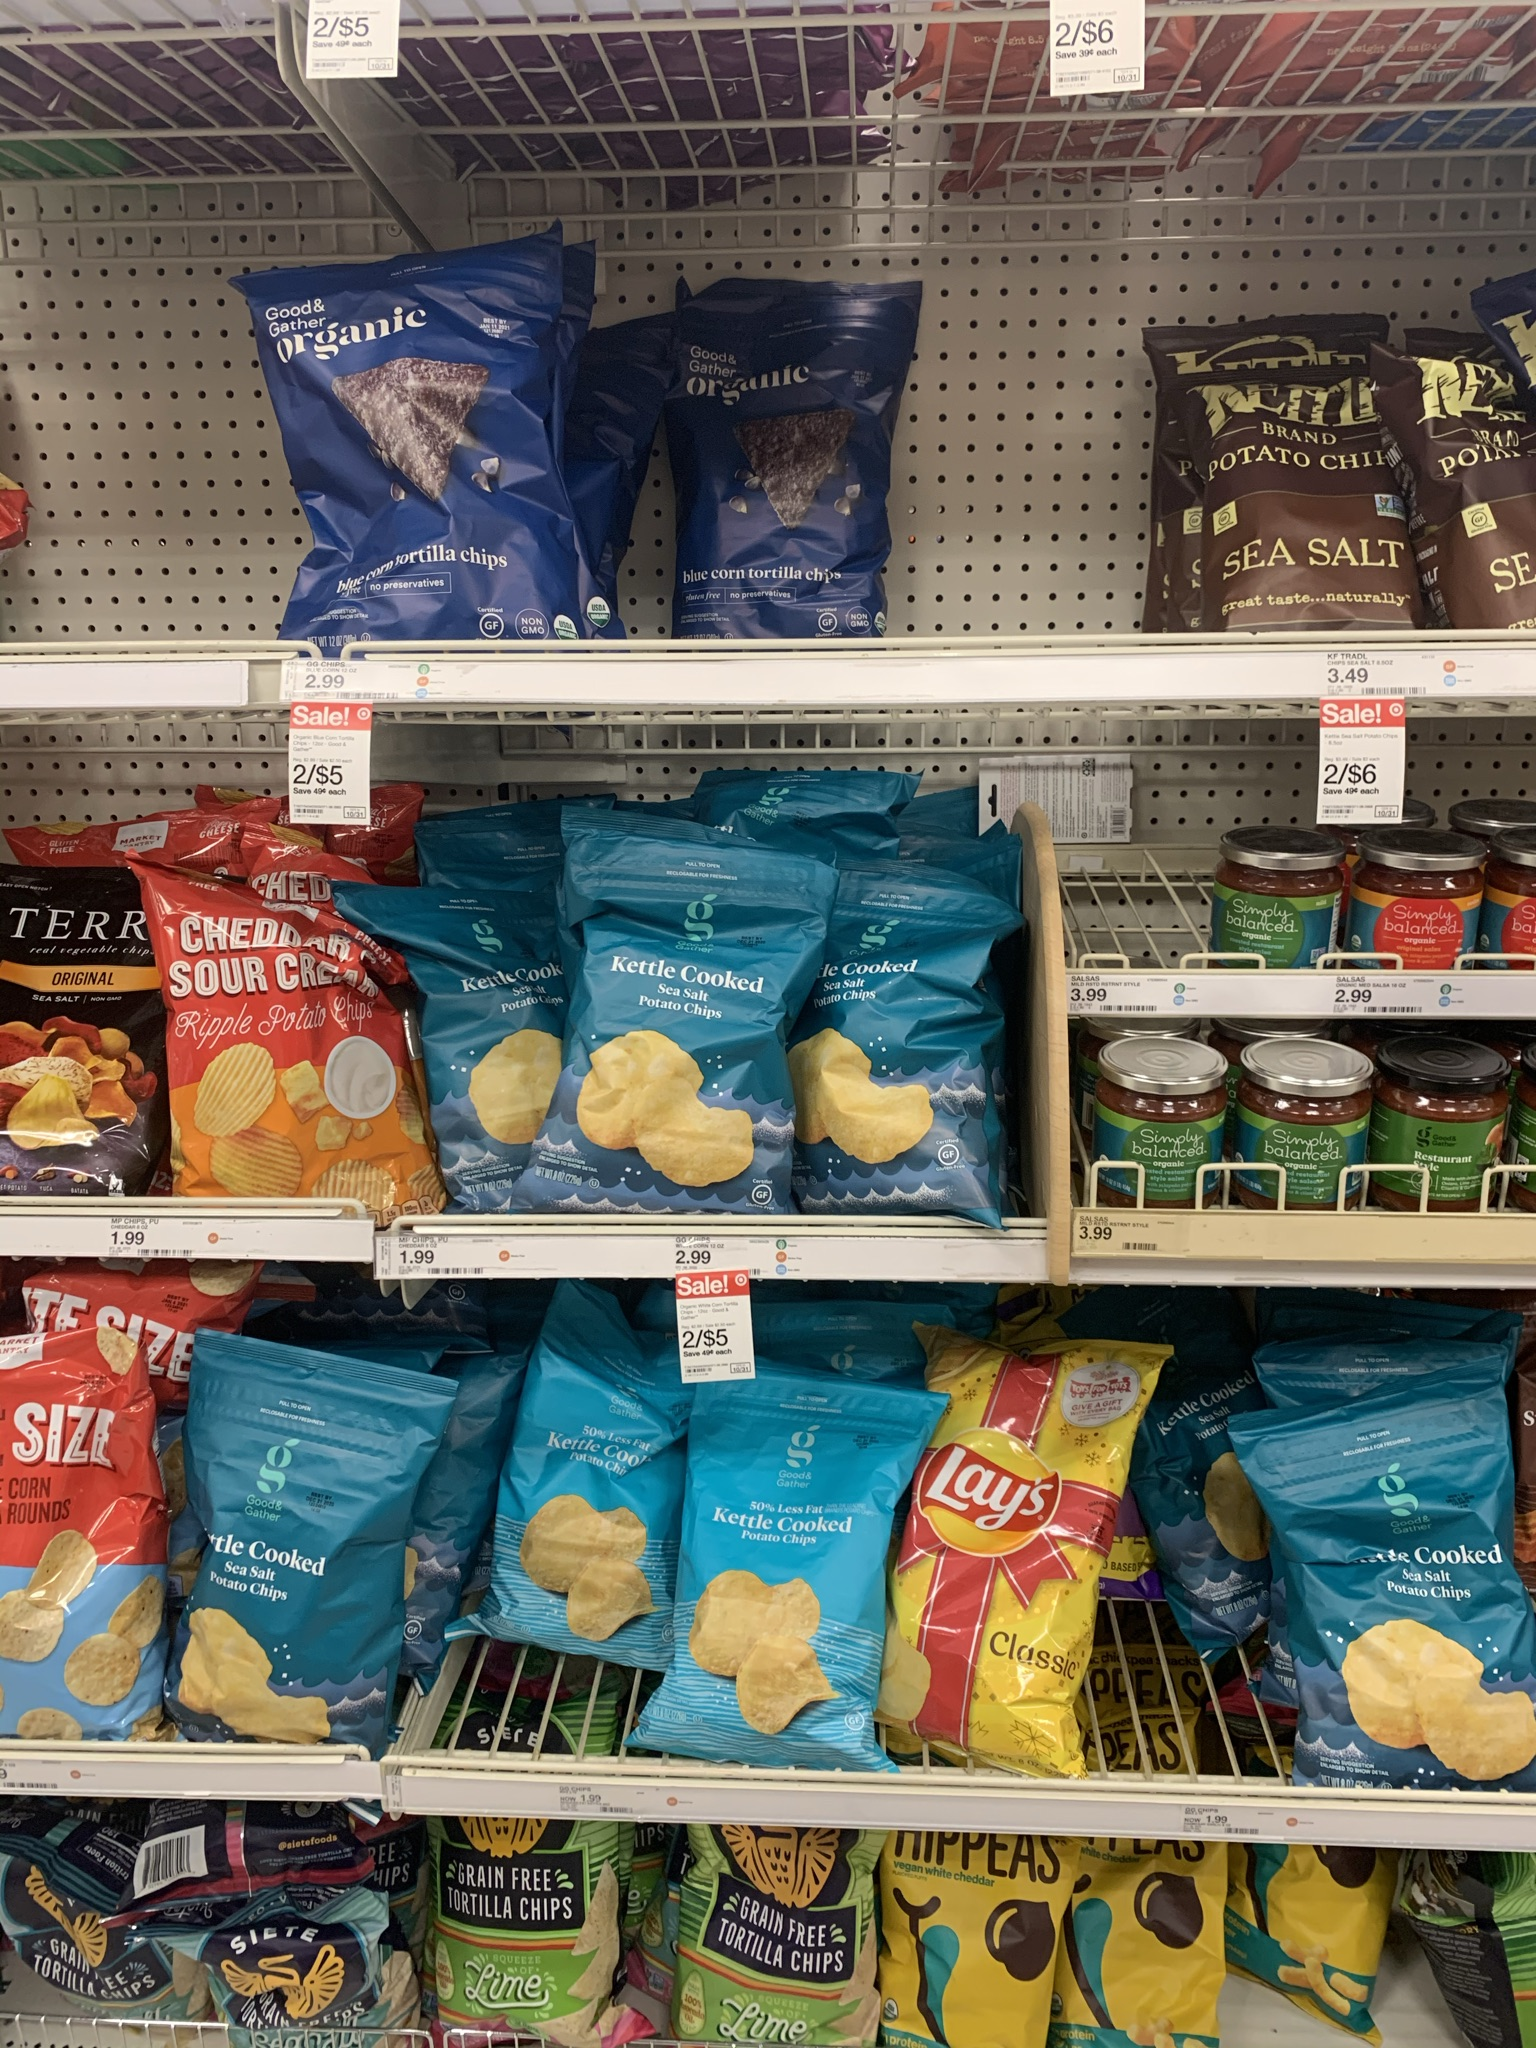cheddar: (161, 892, 429, 1201), (18, 1364, 168, 1764), (153, 1738, 157, 1751)
kettle: (1229, 1424, 1536, 1769), (697, 1392, 925, 1806), (602, 866, 807, 1247), (202, 1380, 402, 1743), (842, 885, 1033, 1255), (394, 885, 589, 1192), (544, 1335, 692, 1709)
lays: (929, 1342, 1142, 1834)
organic: (269, 293, 566, 643), (682, 310, 878, 635)
